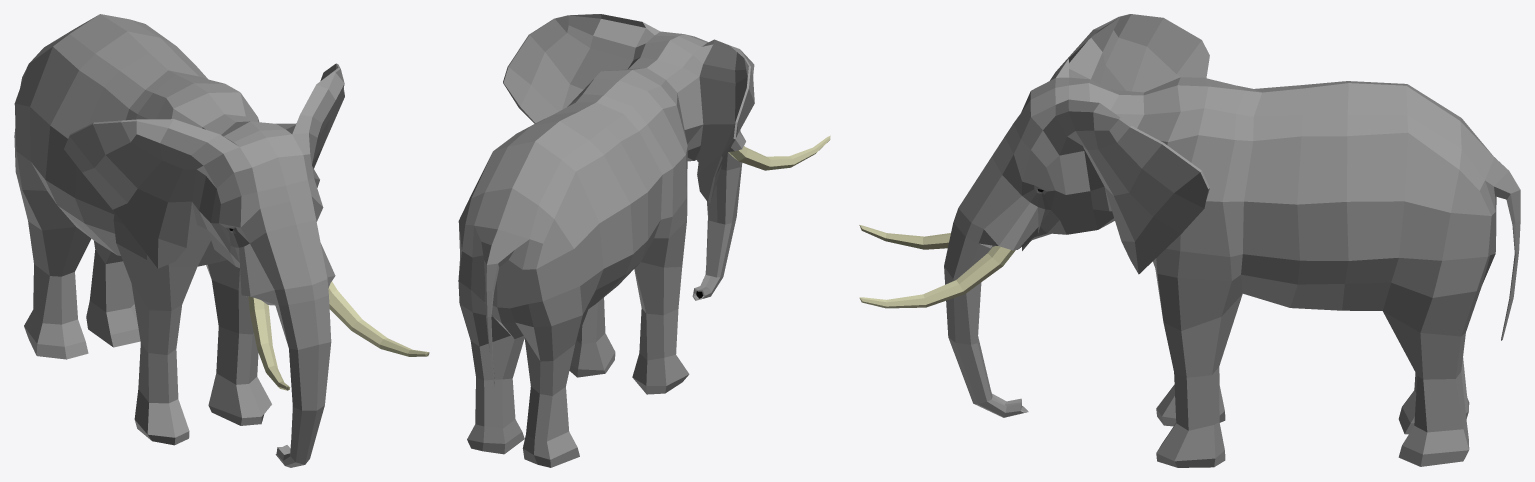
Rendered from elephant.fbx.
The picture shows the model from 3 angles, left to right: view 1: azimuth 30°, elevation 25°; view 2: azimuth 150°, elevation 25°; view 3: azimuth 270°, elevation 25°; orthographic projection. The views are drawn at different scales.
Visible parts, largest first — view 1: elephant; view 2: elephant; view 3: elephant.
Part boxes in pixels (x1,y1,x2,y2): elephant: (14,14,429,467); elephant: (458,14,830,467); elephant: (859,14,1520,467).
Bounding box in the file's own units: 2.96 × 6.16 × 3.85.
